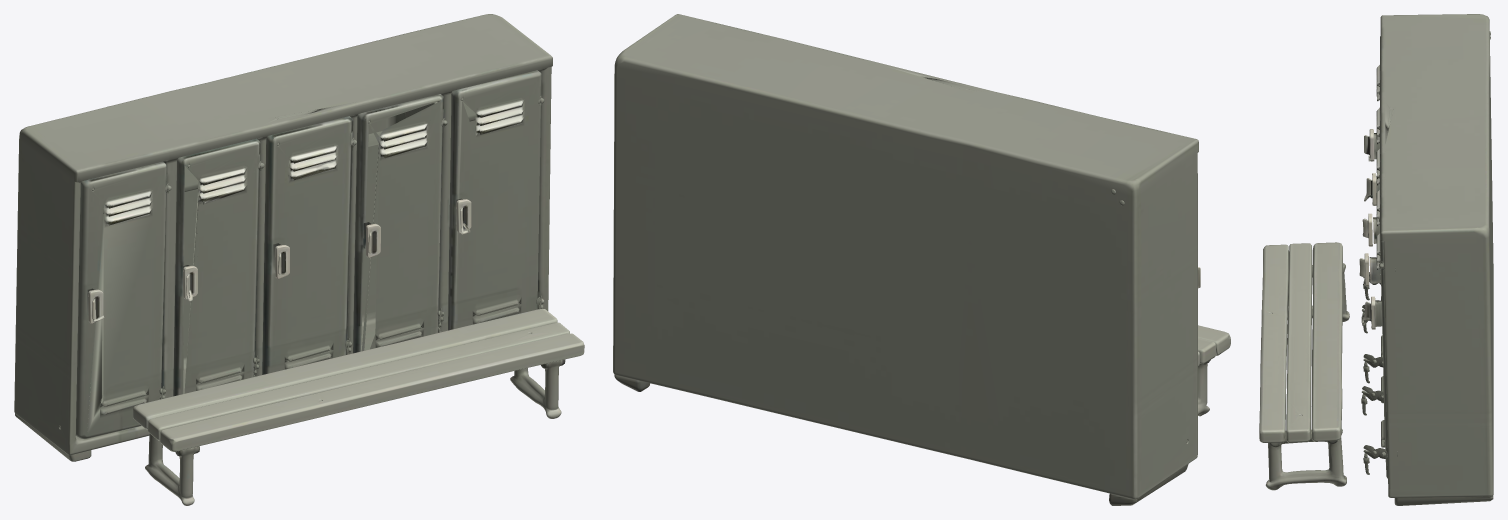
Rendered from toonstudio_locker_row.glb.
3 renders of one model, left to right at view 1: azimuth 30°, elevation 25°; view 2: azimuth 150°, elevation 25°; view 3: azimuth 270°, elevation 25°, orthographic. The views are drawn at different scales.
Parts seen in each view (by area): view 1: tripo_7ee29acf_fc0f_4068_b0c0_71f015f4353e; view 2: tripo_7ee29acf_fc0f_4068_b0c0_71f015f4353e; view 3: tripo_7ee29acf_fc0f_4068_b0c0_71f015f4353e.
Part boxes in pixels (box(x1,y1,x2,y2)): tripo_7ee29acf_fc0f_4068_b0c0_71f015f4353e: box(14, 14, 584, 505); tripo_7ee29acf_fc0f_4068_b0c0_71f015f4353e: box(613, 14, 1230, 505); tripo_7ee29acf_fc0f_4068_b0c0_71f015f4353e: box(1259, 14, 1493, 505).
Size of the model in its own units: 3 by 1.84 by 1.36.
1 material, 1 textured.
